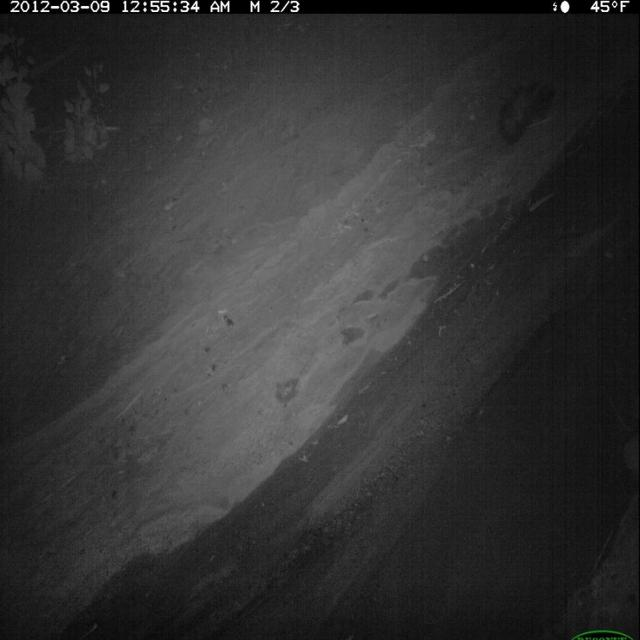skunk: (492, 72, 561, 152)
